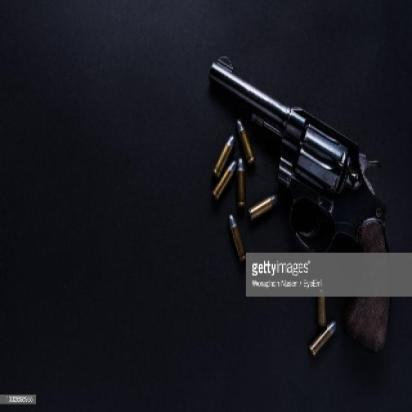Gun: (205, 48, 395, 352)
